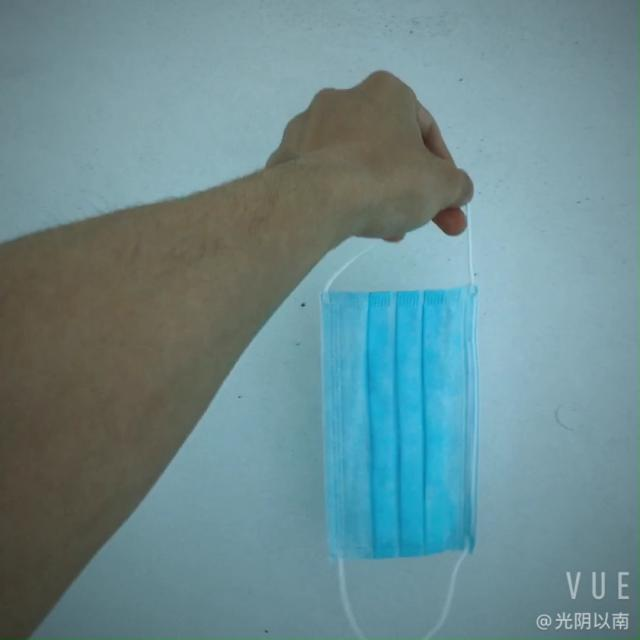non-organic waste: (313, 276, 500, 568)
